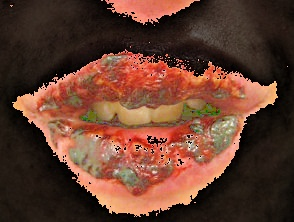SJS-TEN: (44, 108, 241, 200), (33, 51, 258, 114)
